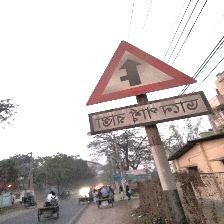Side-road-right: (84, 40, 208, 135)
